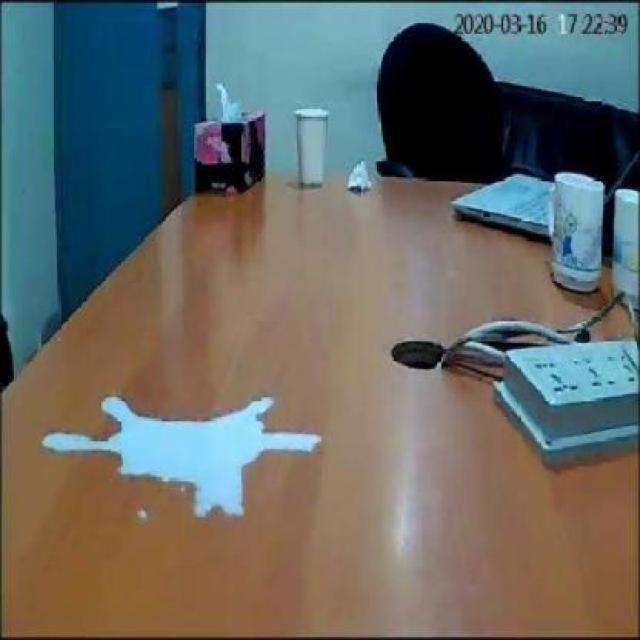spillage: (40, 396, 321, 518)
